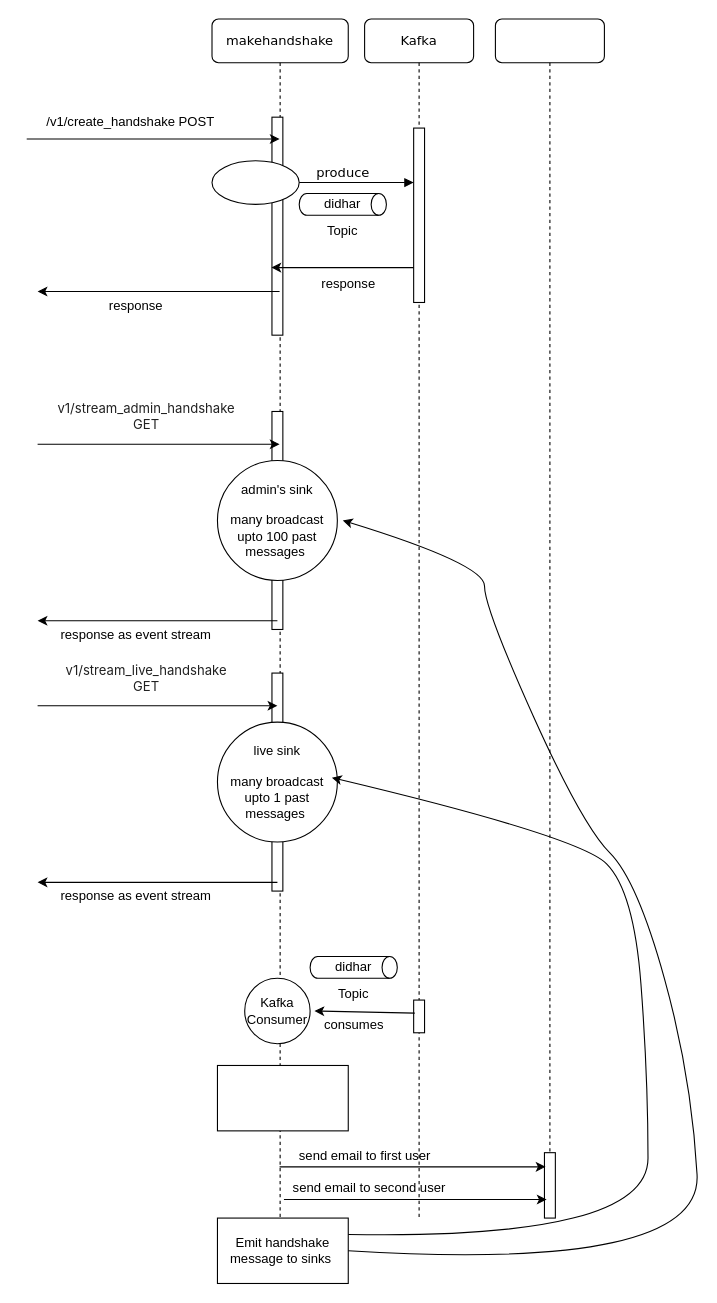
Some shapes in this 717 by 1303 pixel diagram are drawn without their labels. Here are the shapes that lost their labels. From the top down, the box of each, then its label:
(211, 160, 299, 204): Kafka Producer
(494, 18, 604, 1218): SMTP Server
(216, 1064, 348, 1131): Make one handshake message from two consecutive kafka messages
